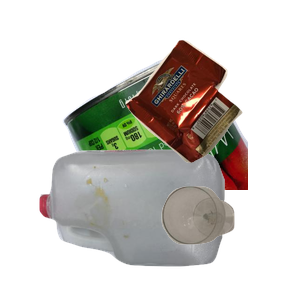glass: (159, 184, 300, 300)
metal: (60, 48, 300, 228)
plastic: (37, 147, 254, 300)
trash: (123, 37, 300, 192)
